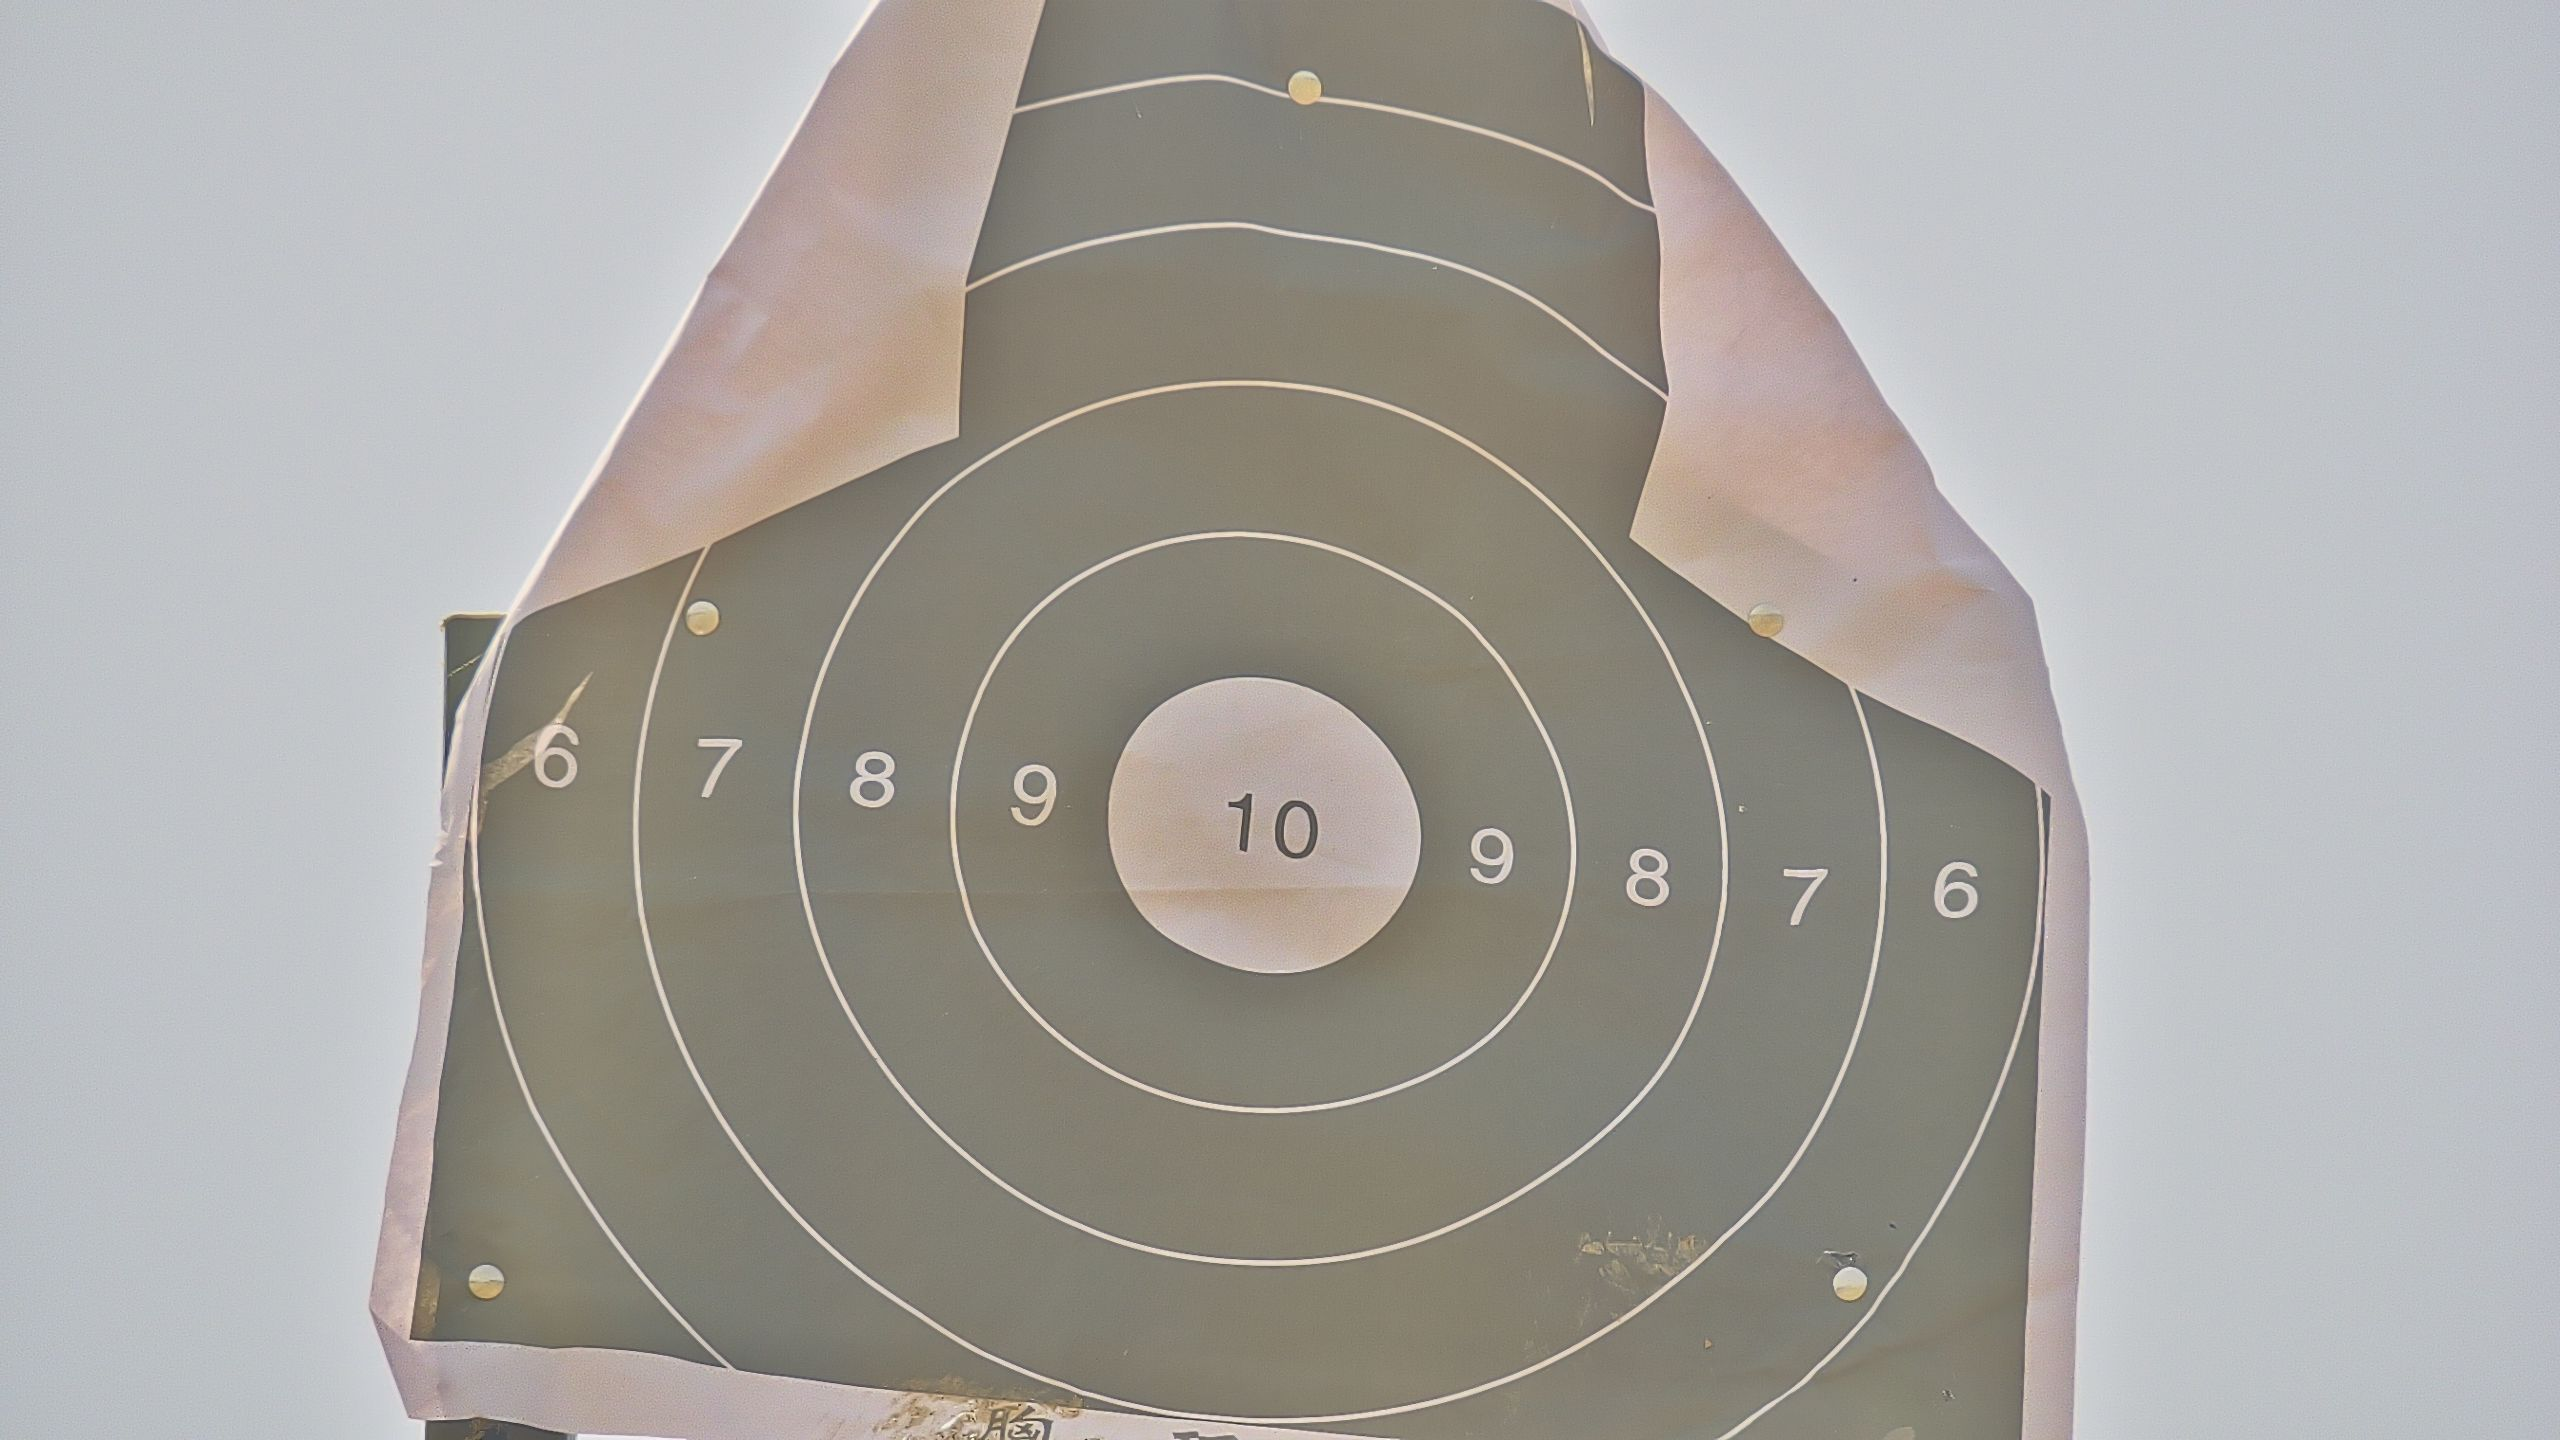kernel: (1259, 823, 1264, 826)
target: (411, 5, 2059, 1440)
ten: (1102, 672, 1422, 976)
